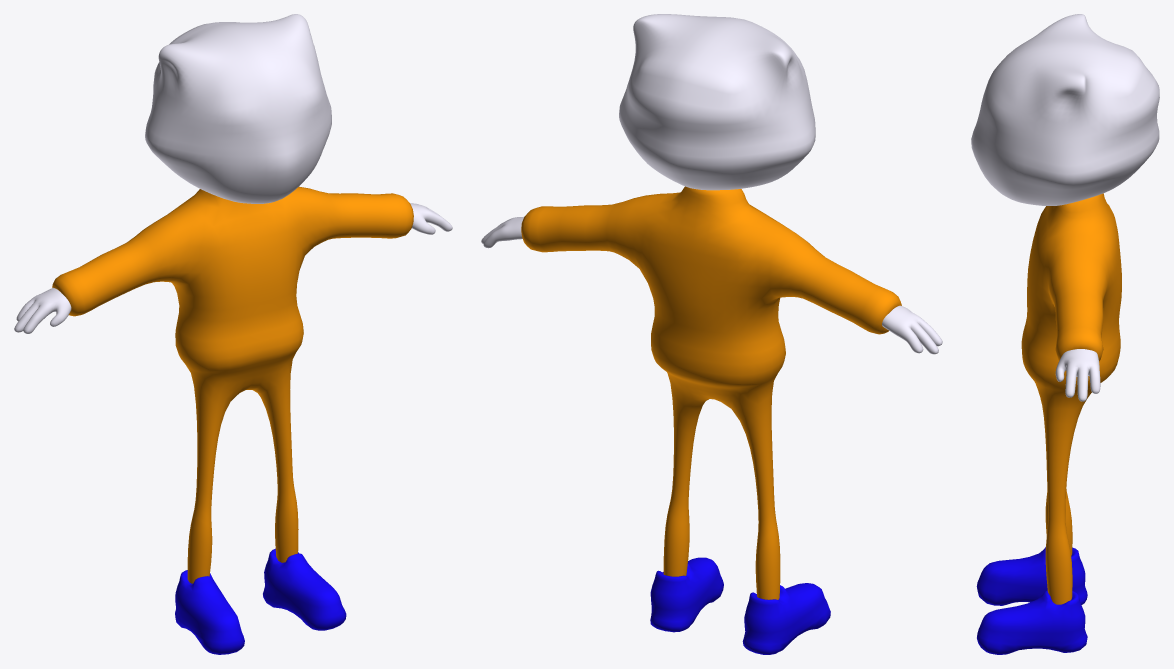
The model's file is Subdiv1 - Wildcats 3D Model ( Unrigged Model ).fbx.
The picture shows the model from 3 angles, left to right: view 1: azimuth 30°, elevation 25°; view 2: azimuth 150°, elevation 25°; view 3: azimuth 270°, elevation 25°; orthographic projection. The views are drawn at different scales.
Visible parts, largest first — view 1: Tiger; view 2: Tiger; view 3: Tiger.
Part boxes in pixels (x1,y1,x2,y2): Tiger: (14,14,452,654); Tiger: (481,14,942,654); Tiger: (971,14,1159,654).
Bounding box in the file's own units: 395 × 506 × 149.
